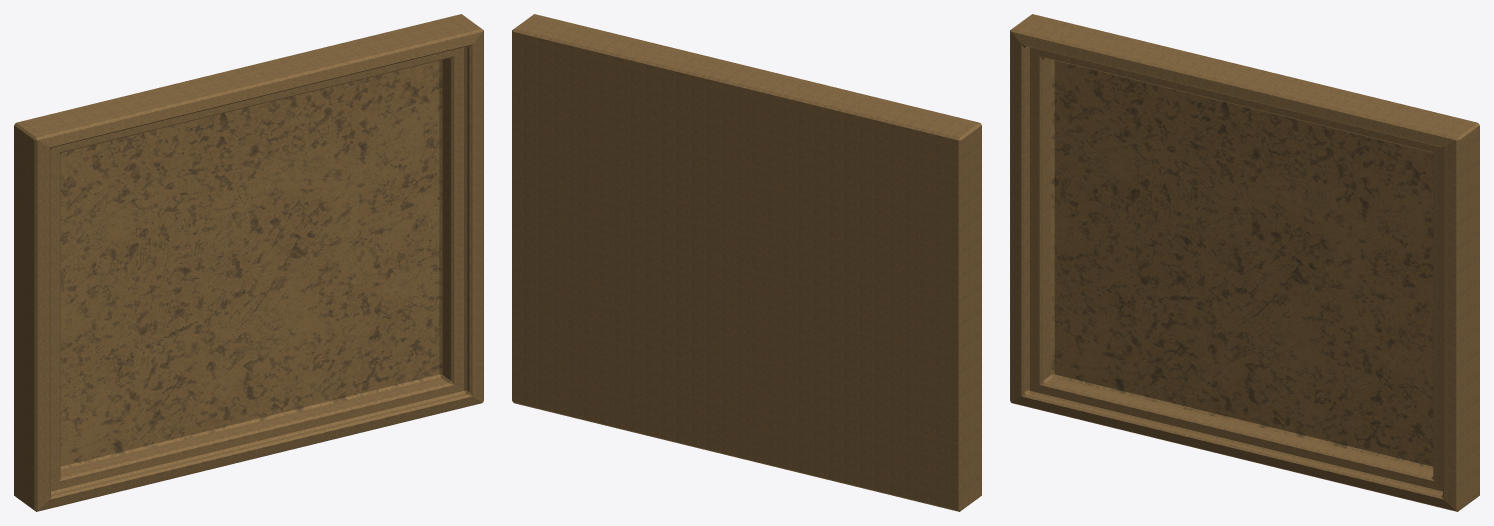
File: Frame.fbx
3 renders of one model, left to right at view 1: azimuth 30°, elevation 25°; view 2: azimuth 150°, elevation 25°; view 3: azimuth 330°, elevation 25°, orthographic.
Parts seen in each view (by area): view 1: Cube.001; view 2: Cube.001; view 3: Cube.001.
Part boxes in pixels (<box>): Cube.001: <box>14,14,483,511</box>; Cube.001: <box>512,14,981,511</box>; Cube.001: <box>1010,14,1479,511</box>.
Bounding box in the file's own units: 229 × 182 × 20.7.
